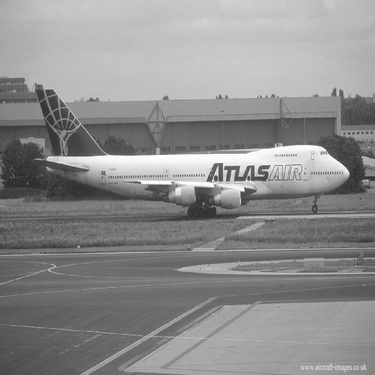airplane: (19, 65, 354, 222)
